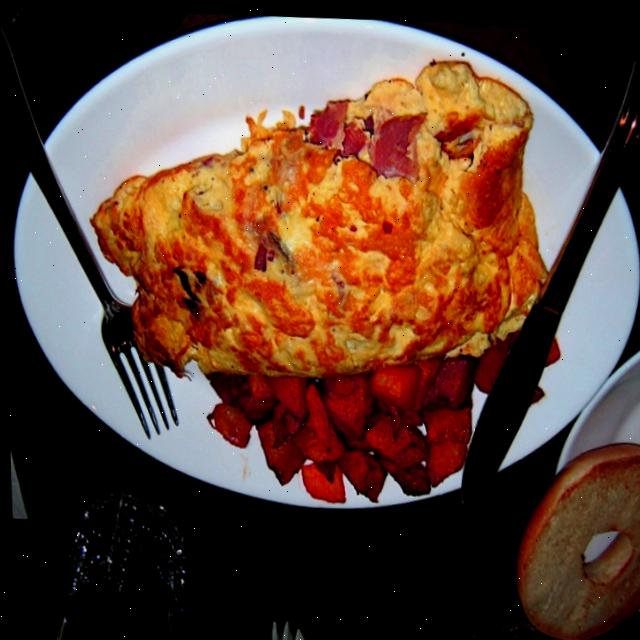鸡蛋料理: (62, 74, 556, 370)
